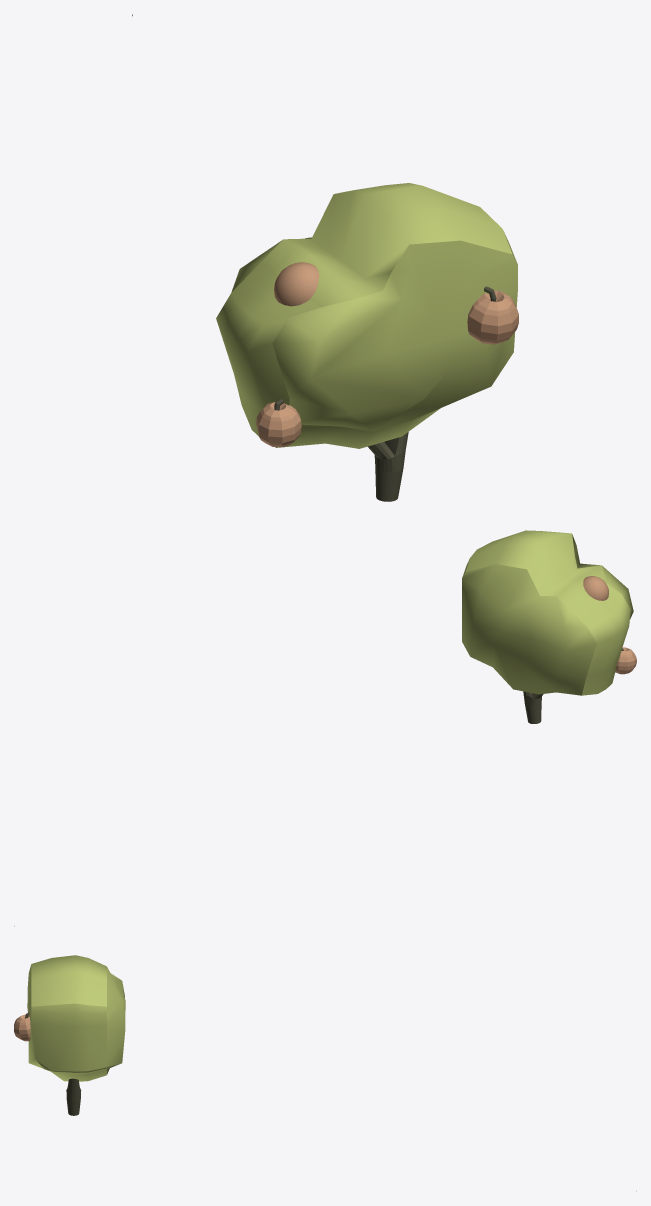
The model's file is Tree2Apple.fbx.
3 renders of one model, top to bottom at view 1: azimuth 30°, elevation 25°; view 2: azimuth 150°, elevation 25°; view 3: azimuth 270°, elevation 25°, orthographic. The views are drawn at different scales.
Visible parts, largest first — view 1: ForEdit:pCube14, ForEdit:pSphere1, ForEdit:pCylinder5, ForEdit:pSphere2, ForEdit:pSphere7; view 2: ForEdit:pCube14; view 3: ForEdit:pCube14, ForEdit:pCylinder5, ForEdit:pSphere1.
Part boxes in pixels (x1,y1,x2,y2): ForEdit:pCube14: (216,183,517,448); ForEdit:pSphere1: (467,290,518,344); ForEdit:pCylinder5: (368,432,408,501); ForEdit:pSphere2: (256,402,301,447); ForEdit:pSphere7: (274,262,319,306); ForEdit:pCube14: (462,530,633,695); ForEdit:pCube14: (27,955,125,1081); ForEdit:pCylinder5: (66,1078,81,1115); ForEdit:pSphere1: (14,1014,30,1041).
Bounding box in the file's own units: 5.65 × 3.68 × 13.28.
